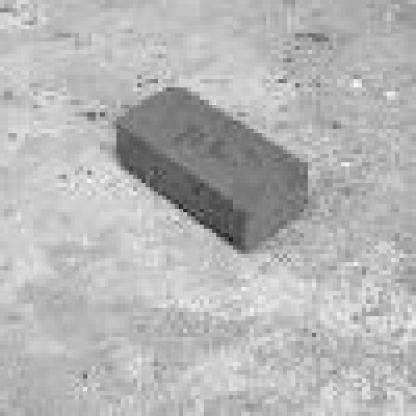brick: (115, 85, 307, 257)
